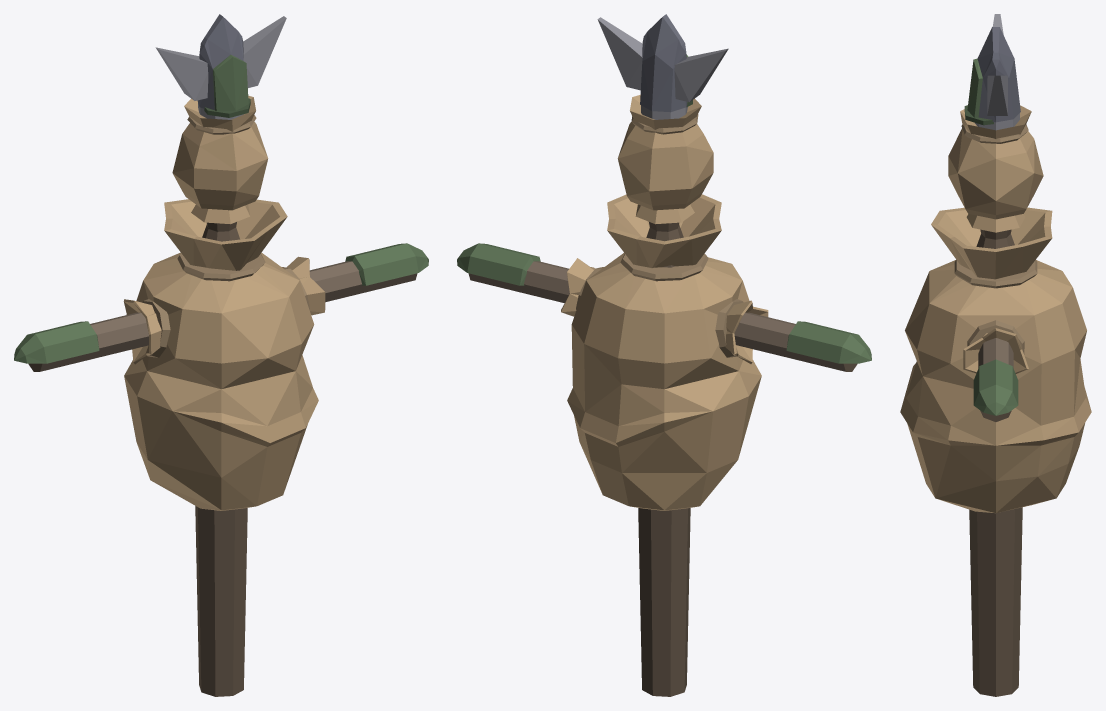
File: _TARGET_2.fbx
3 renders of one model, left to right at view 1: azimuth 30°, elevation 25°; view 2: azimuth 150°, elevation 25°; view 3: azimuth 270°, elevation 25°, orthographic.
Parts seen in each view (by area): view 1: TARGET_2; view 2: TARGET_2; view 3: TARGET_2.
Part boxes in pixels (bbox=[...]): TARGET_2: bbox=[14, 14, 428, 696]; TARGET_2: bbox=[457, 14, 871, 696]; TARGET_2: bbox=[900, 14, 1091, 696].
Bounding box in the file's own units: 140 × 216 × 56.83.
